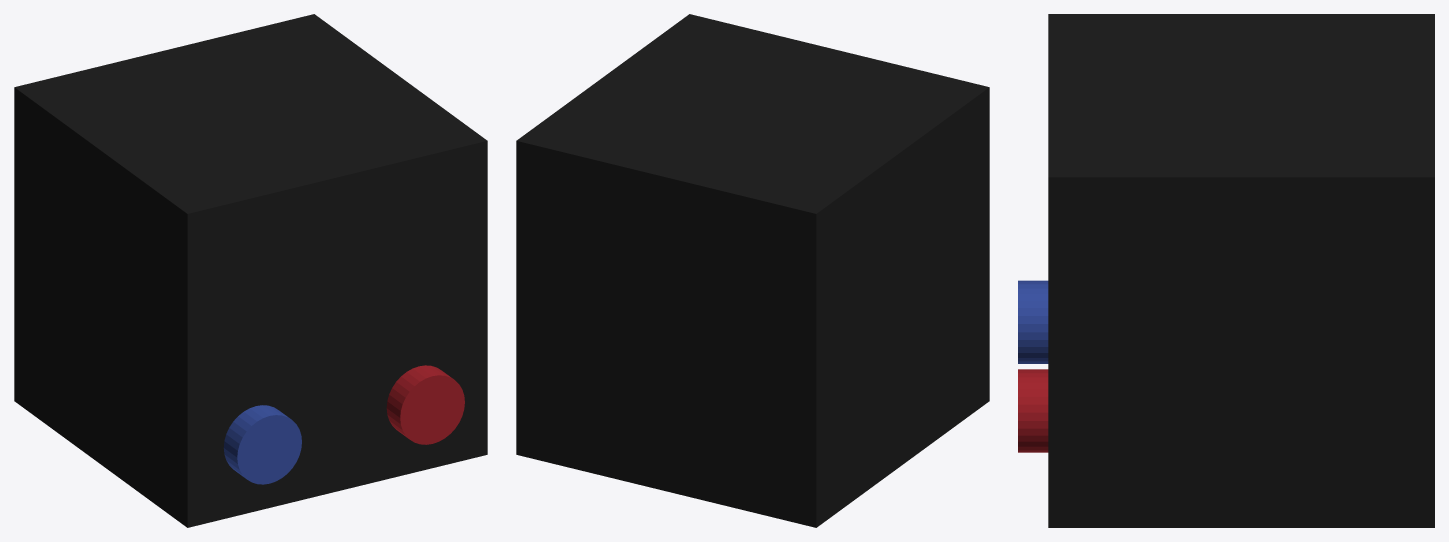
File: battery.glb
3 views of the same model, side by side, from view 1: azimuth 30°, elevation 25°; view 2: azimuth 150°, elevation 25°; view 3: azimuth 270°, elevation 25° (orthographic). The views are drawn at different scales.
Parts seen in each view (by area): view 1: Cube, Cylinder.001, Cylinder.002; view 2: Cube; view 3: Cube, Cylinder.001, Cylinder.002.
Part boxes in pixels (left/top/right/bottom): Cube: left=14, top=14, right=487, bottom=527; Cylinder.001: left=386, top=365, right=464, bottom=444; Cylinder.002: left=223, top=405, right=301, bottom=484; Cube: left=516, top=14, right=989, bottom=527; Cube: left=1048, top=14, right=1434, bottom=527; Cylinder.001: left=1018, top=369, right=1048, bottom=452; Cylinder.002: left=1018, top=280, right=1048, bottom=363.
Bounding box in the file's own units: 0.1993 × 0.1993 × 0.2149.
